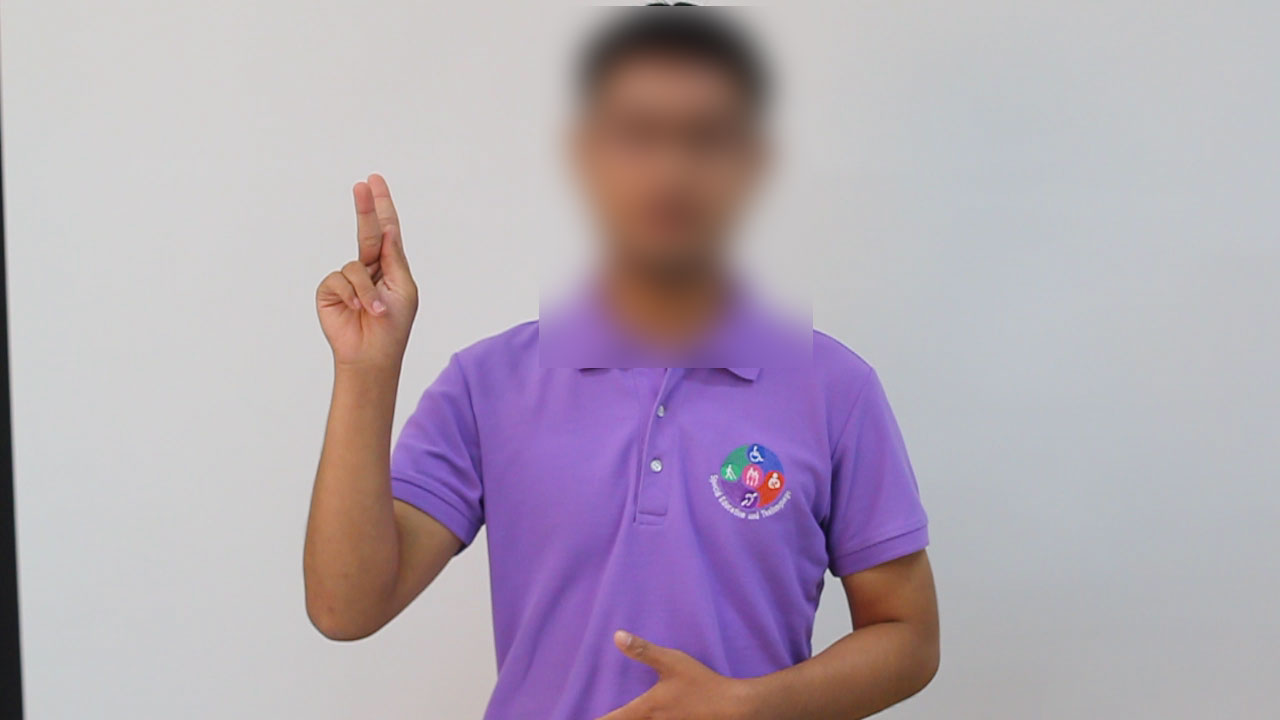ko: (276, 153, 461, 379)
